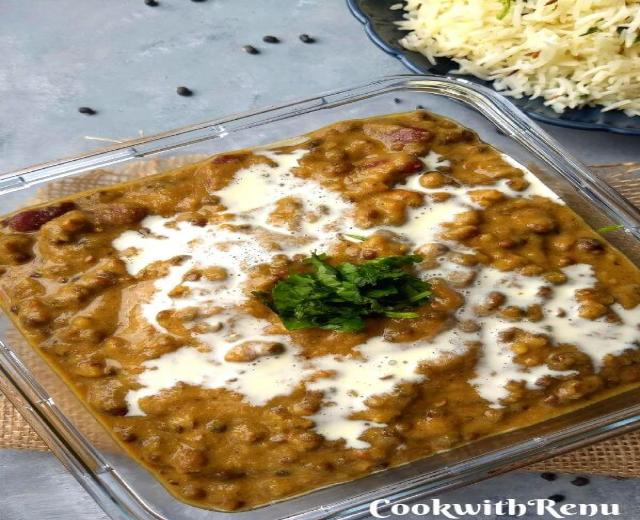dal makhni: (8, 75, 630, 513), (342, 1, 632, 138)
